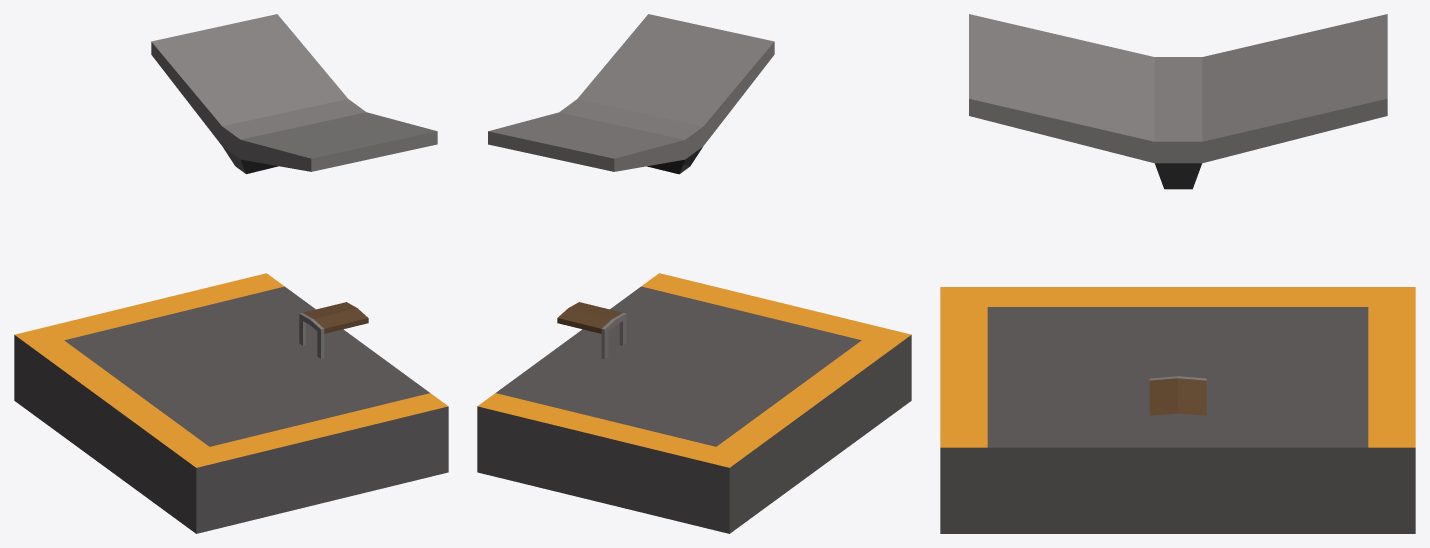
File: buildings_train-station-platform-end-small.fbx
3 views of the same model, side by side, from view 1: azimuth 30°, elevation 25°; view 2: azimuth 150°, elevation 25°; view 3: azimuth 270°, elevation 25° (orthographic). The views are drawn at different scales.
Parts seen in each view (by area): view 1: buildings_train_station_platform_end_small; view 2: buildings_train_station_platform_end_small; view 3: buildings_train_station_platform_end_small.
Boxes of the visible parts, x1=… form: buildings_train_station_platform_end_small: x1=14, y1=14, x2=448, y2=533; buildings_train_station_platform_end_small: x1=477, y1=14, x2=911, y2=533; buildings_train_station_platform_end_small: x1=940, y1=14, x2=1415, y2=533.
Bounding box in the file's own units: 157 × 200 × 196.
